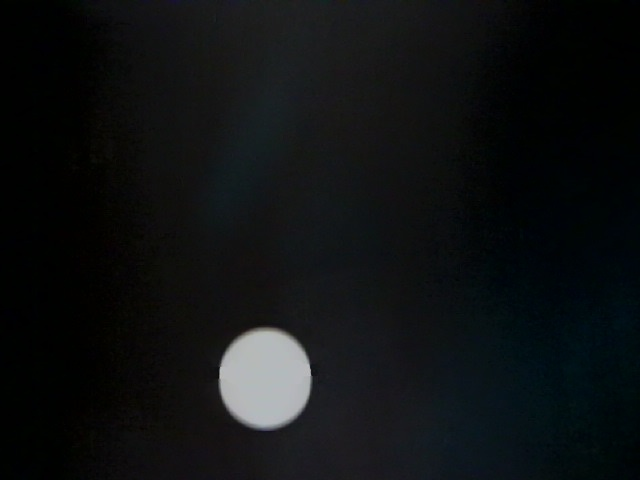CYLJ: (255, 178, 356, 293)
